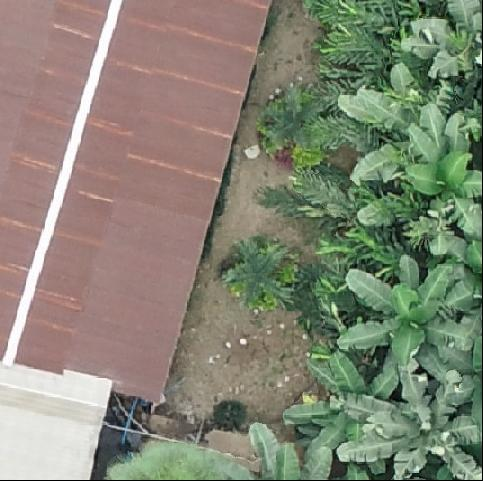Banana-plant: (341, 365, 483, 481), (347, 253, 471, 385), (412, 111, 483, 233)
